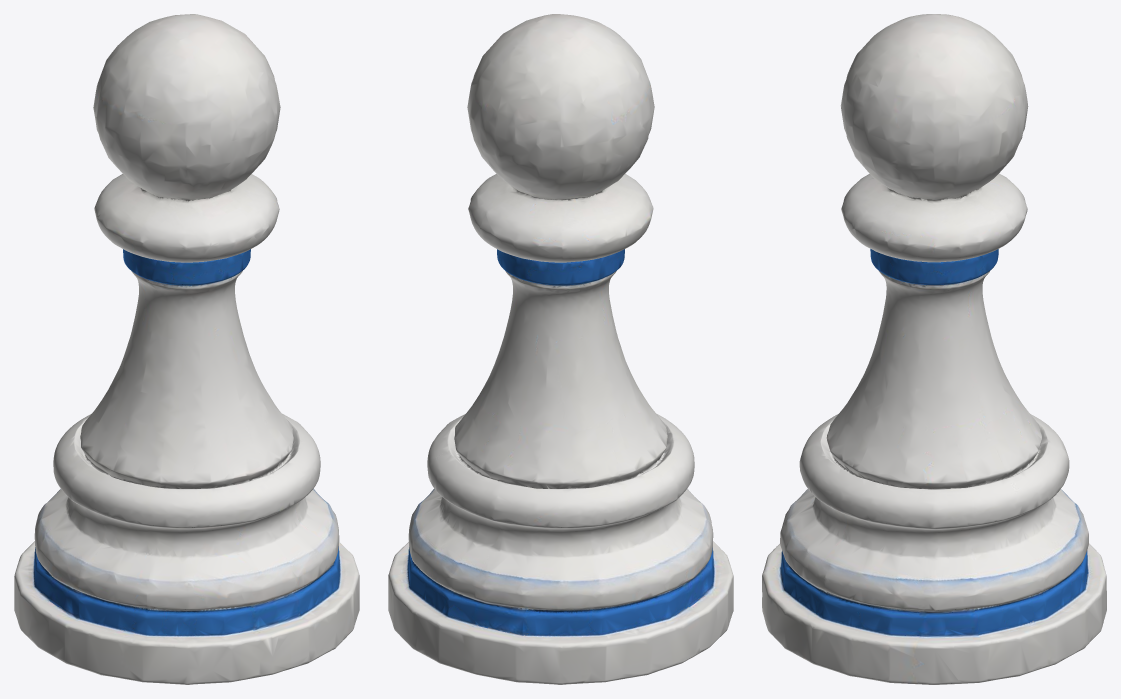
File: pawn.glb
3 views of the same model, side by side, from view 1: azimuth 30°, elevation 25°; view 2: azimuth 150°, elevation 25°; view 3: azimuth 270°, elevation 25° (orthographic).
Bounding box in the file's own units: 1 × 1.9 × 1.
1 material, 1 textured.
